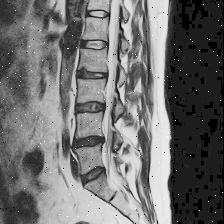disc: (80, 36, 112, 54), (85, 6, 113, 24)
hdisc: (74, 98, 110, 120), (75, 66, 112, 86), (71, 133, 107, 153), (78, 164, 110, 186)
